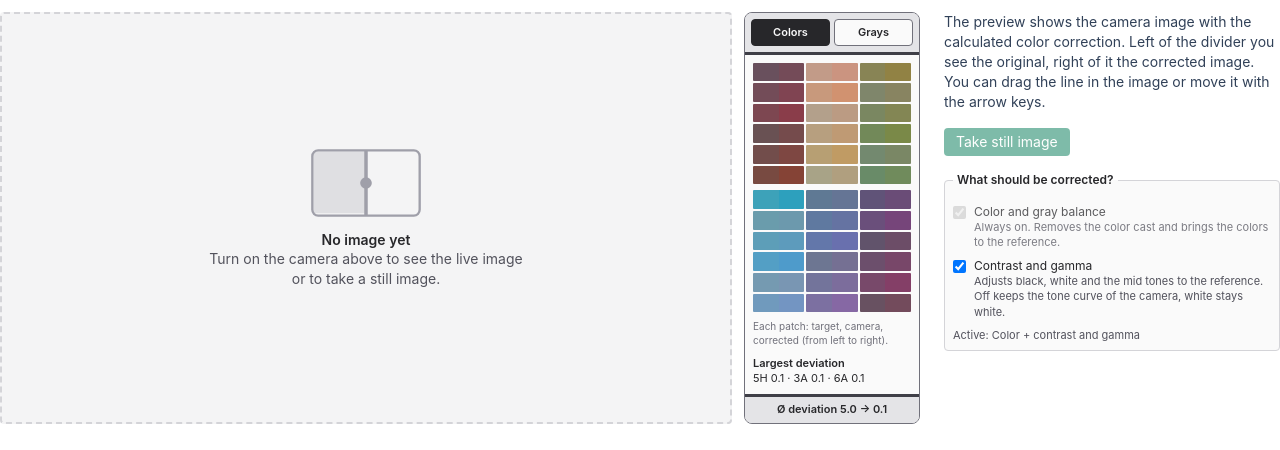
Test: PreviewTab (English) › shows colors, grayscale, tonal ranges and result in English
Check: the element with test id "worst-patches" shows "Largest deviation", box [753,356,845,370]
What coordinates should you click on to do the following:
click the button with test id "view-grays"
I would click on:
 (874, 32)
Its box is [834,19,913,46].
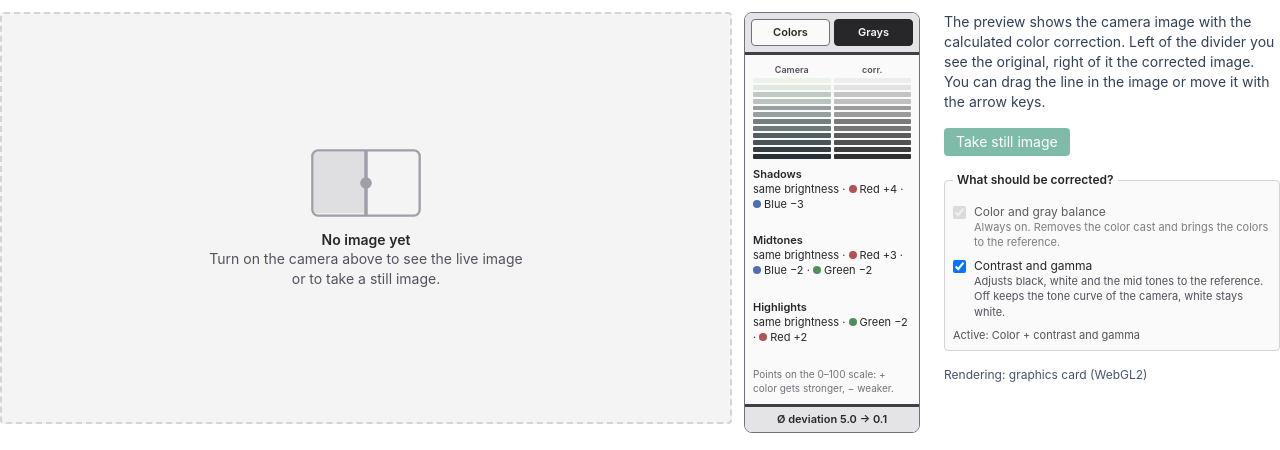
Check: the text with test id "preview-summary" reads "Ø deviation 5.0 → 0.1", box [777,412,887,426]
Check: the text "Points on the 0–100 scale" is shown, box [753,368,894,394]
